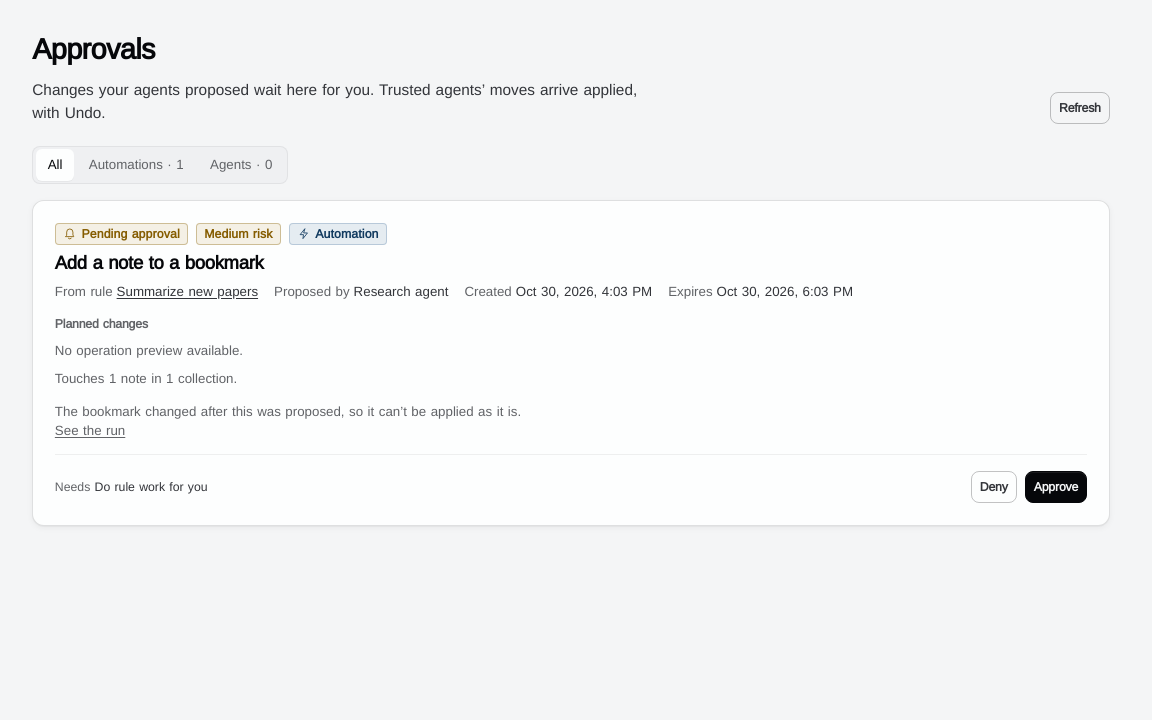
Scenario: Automation plans in Approvals › says a stale proposal can’t be applied as it is, and shows a refused decision
This screenshot has width=1152, height=720.
Click the button "Approve". click: (1056, 487)
box: [1025,471,1087,503]
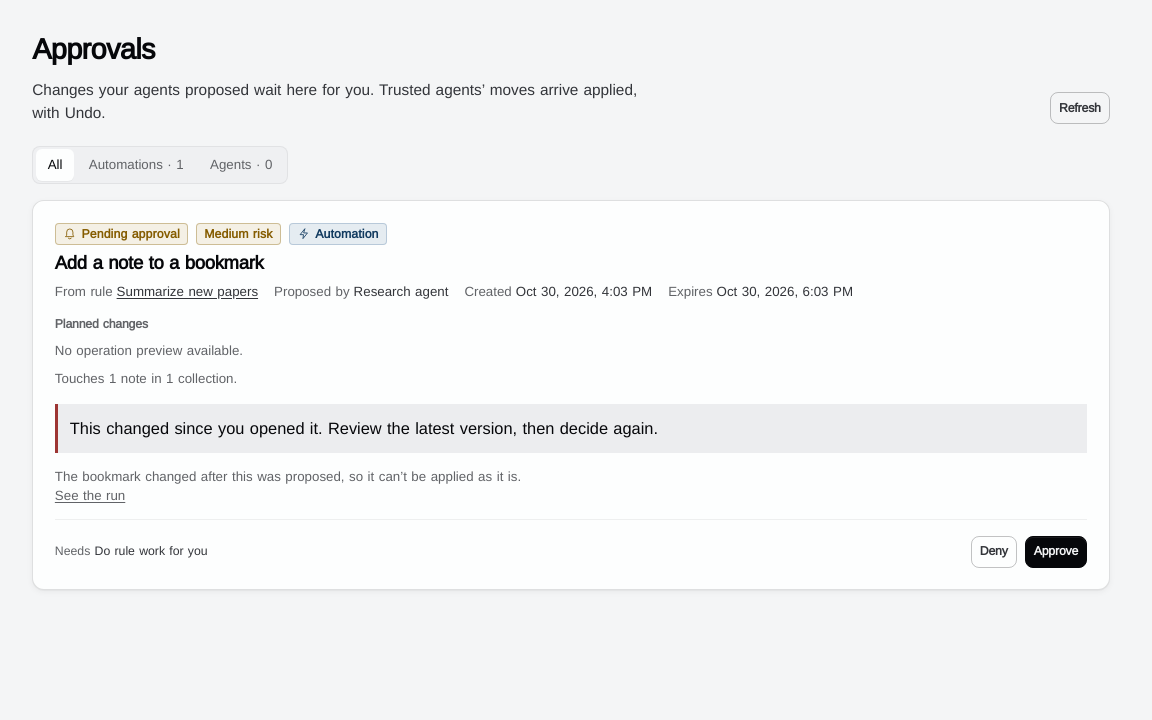
Now the message reads "This changed since you opened it. Review the latest version, then decide again.", box [70,418,658,438]
